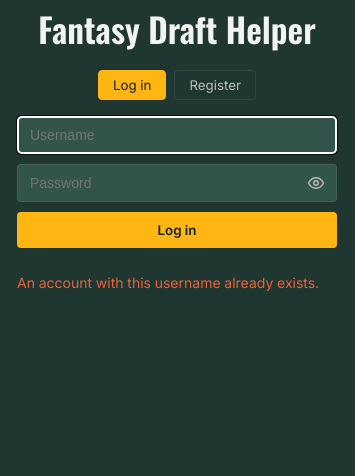
Test: LoginForm › shows the mismatch instead of an earlier server error
This screenshot has width=355, height=476.
Click the button "Register" at coordinates (215, 85), box left=174, top=70, right=256, bottom=100
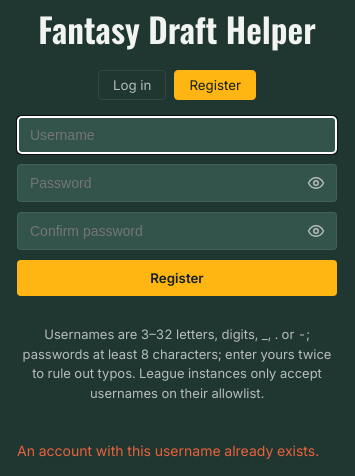
Type "password123" into the password field labelled "Password" at coordinates (177, 183), box left=17, top=164, right=337, bottom=202
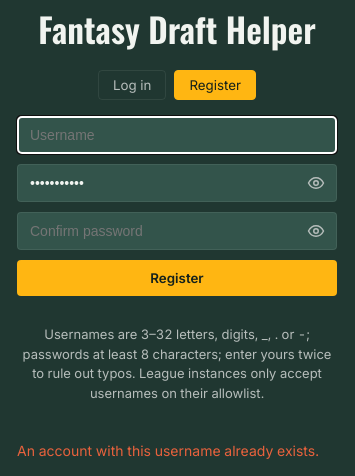
Type "password124" into the password field labelled "Confirm password" at coordinates (177, 231), box left=17, top=212, right=337, bottom=250
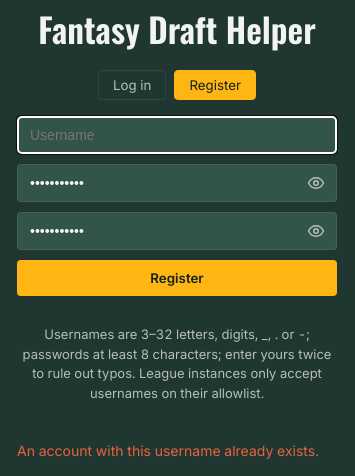
Submit the form named "Password", box left=17, top=116, right=337, bottom=296
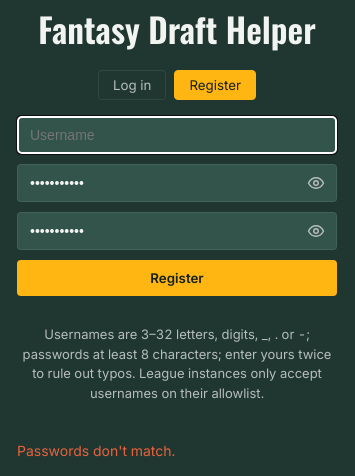
expect the number of messages is 1: met, box left=17, top=442, right=175, bottom=459
expect the message reads "Passwords don't match.": met, box left=17, top=442, right=175, bottom=459
